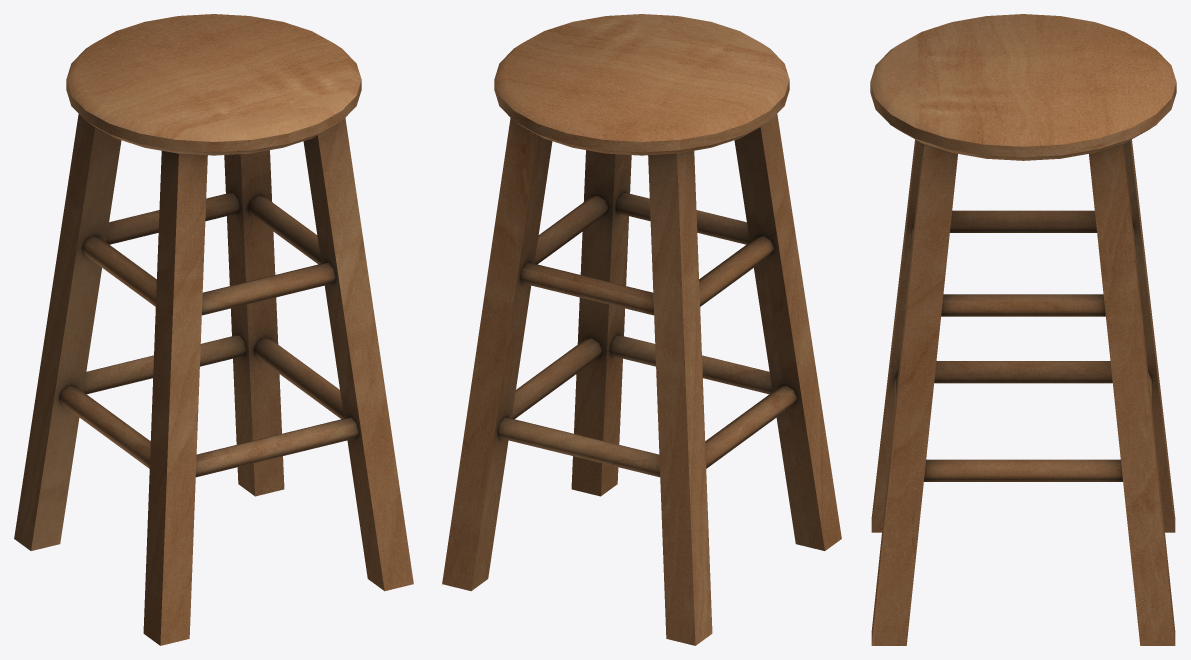
The model's file is stool1.fbx.
3 renders of one model, left to right at view 1: azimuth 30°, elevation 25°; view 2: azimuth 150°, elevation 25°; view 3: azimuth 270°, elevation 25°, orthographic. The views are drawn at different scales.
Visible parts, largest first — view 1: stool:stool; view 2: stool:stool; view 3: stool:stool.
Boxes of the visible parts, x1,y1,x2,y2 form: stool:stool: (14, 14, 413, 645); stool:stool: (442, 14, 841, 645); stool:stool: (870, 14, 1176, 645).
Size of the model in its own units: 140 by 255 by 140.
